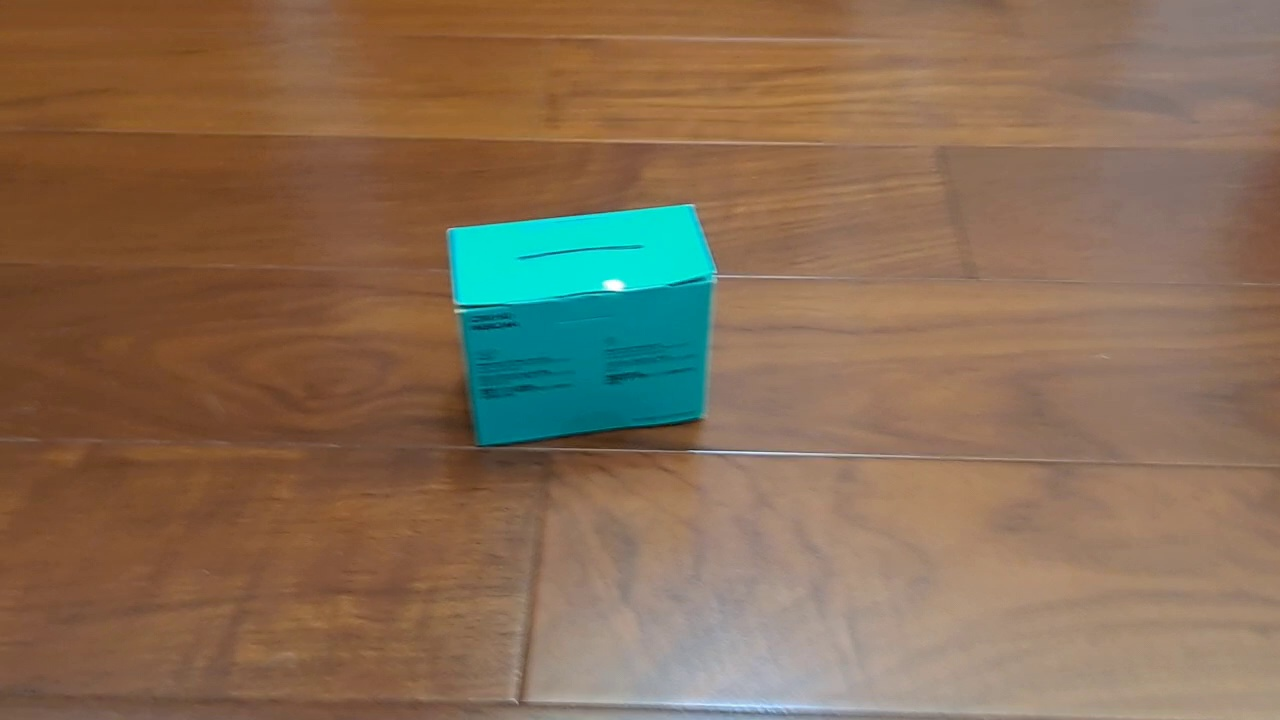webcam: (446, 201, 718, 447)
